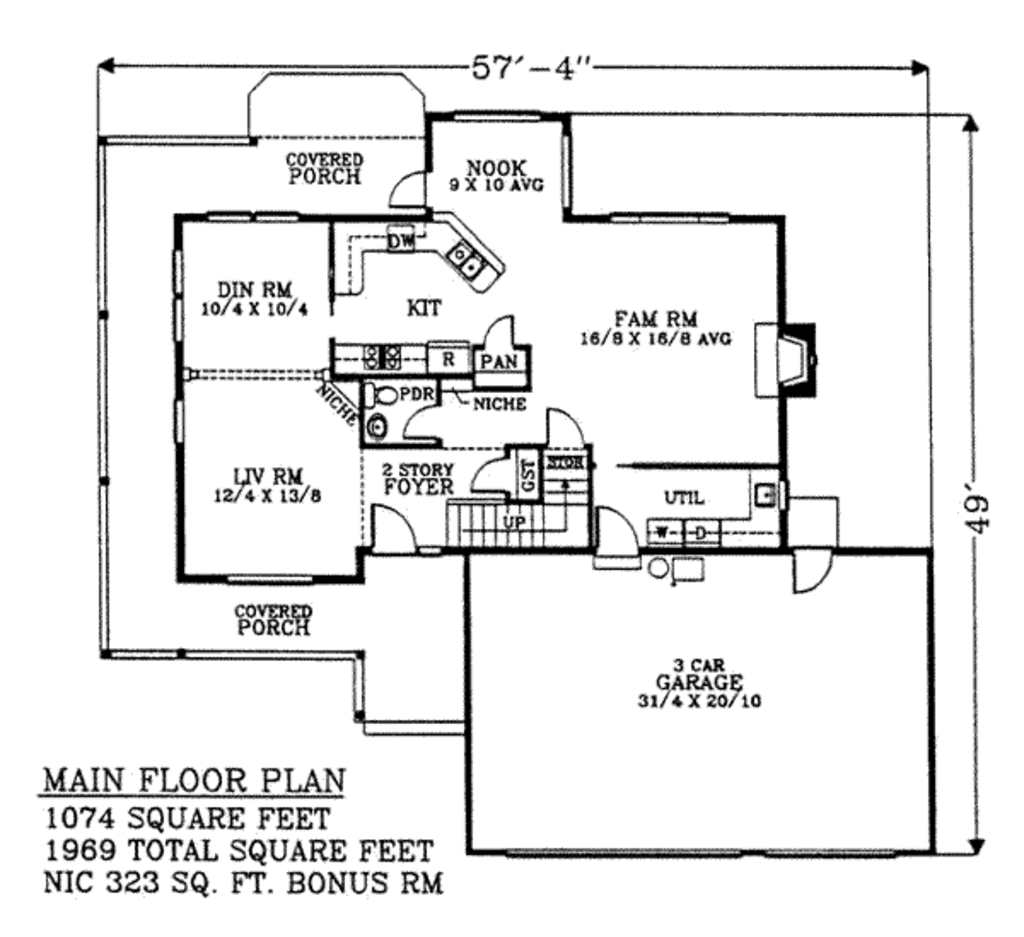door: (360, 499, 426, 561), (529, 399, 597, 458), (587, 503, 644, 567), (478, 309, 539, 351), (397, 405, 452, 447), (457, 450, 513, 490), (793, 548, 839, 596), (384, 168, 431, 213)
large_sink: (355, 376, 409, 406)
small_sink: (352, 408, 403, 447)
stairs: (438, 450, 600, 548)
twin_sink: (441, 231, 494, 287)
window: (202, 202, 303, 235), (603, 208, 739, 228), (226, 568, 328, 593), (449, 103, 546, 129), (168, 250, 189, 351), (173, 396, 196, 454)
